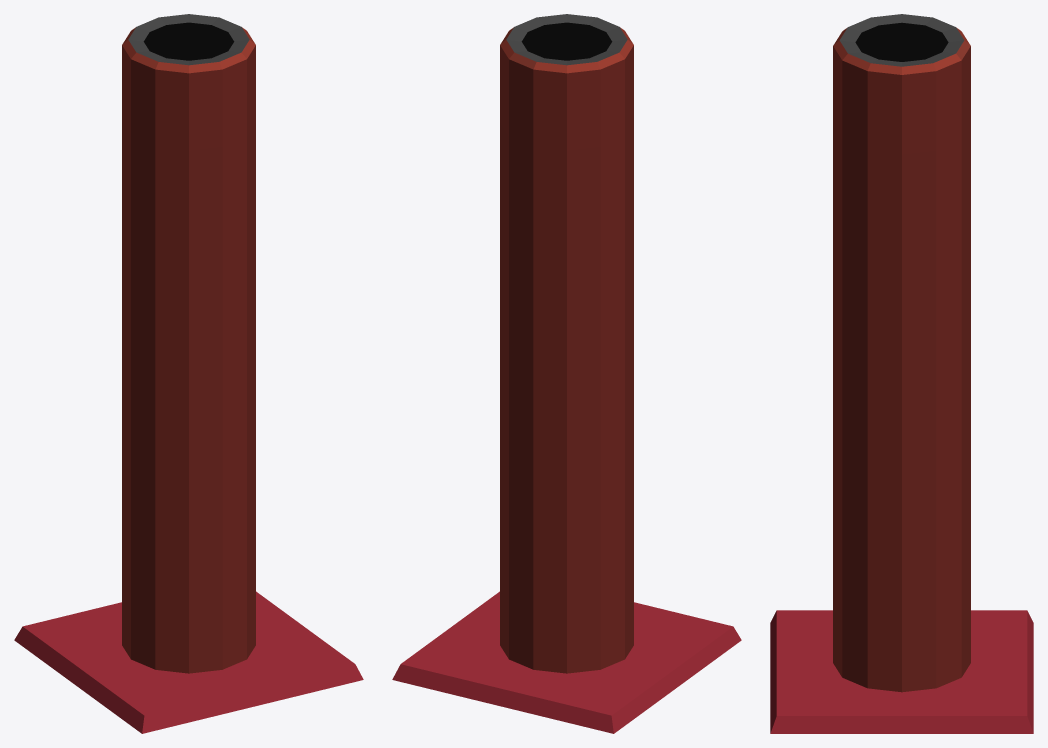
Rendered from RED_MTube.fbx.
3 views of the same model, side by side, from view 1: azimuth 30°, elevation 25°; view 2: azimuth 150°, elevation 25°; view 3: azimuth 270°, elevation 25° (orthographic). The views are drawn at different scales.
Visible parts, largest first — view 1: PreloadedTube_DummyPreloadedTube; view 2: PreloadedTube_DummyPreloadedTube; view 3: PreloadedTube_DummyPreloadedTube.
Part boxes in pixels (x1,y1,x2,y2): PreloadedTube_DummyPreloadedTube: [14, 14, 363, 733]; PreloadedTube_DummyPreloadedTube: [392, 14, 741, 733]; PreloadedTube_DummyPreloadedTube: [770, 14, 1033, 733].
Size of the model in its own units: 19.1 by 51.07 by 19.1.
